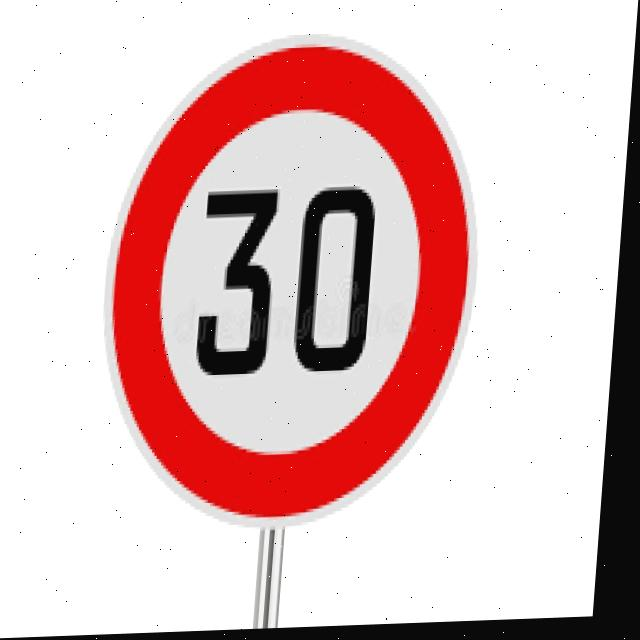Speed limit 30: (94, 29, 497, 539)
